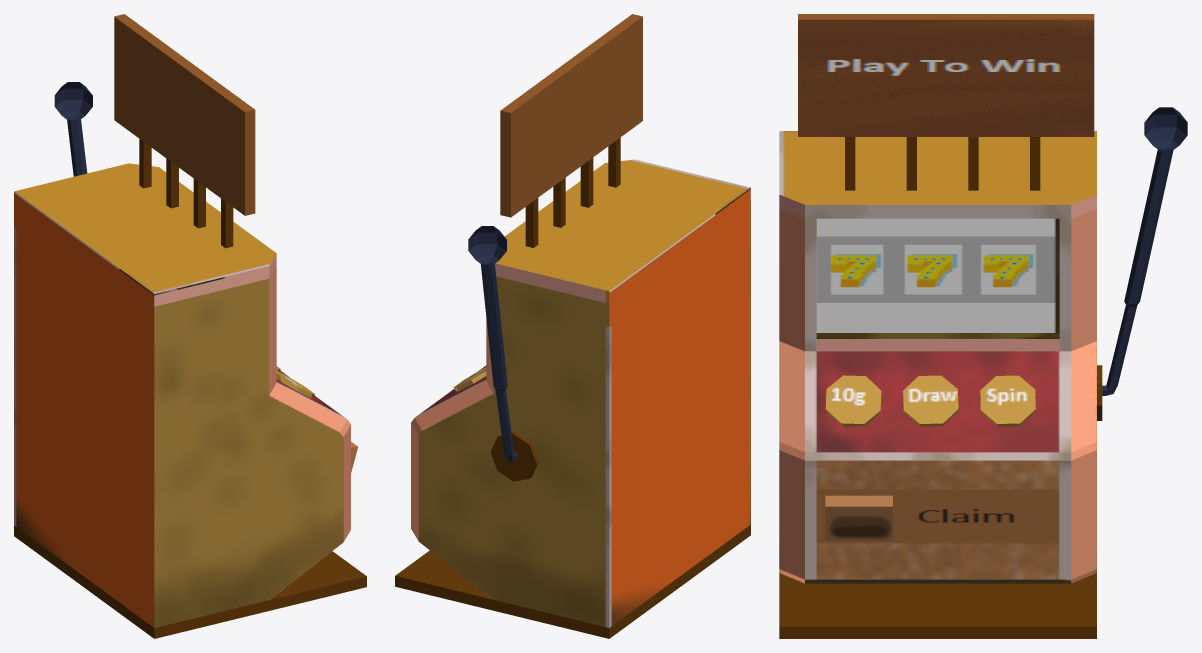
The model's file is Slots3dModel.fbx.
3 renders of one model, left to right at view 1: azimuth 30°, elevation 25°; view 2: azimuth 150°, elevation 25°; view 3: azimuth 270°, elevation 25°, orthographic. The views are drawn at different scales.
Visible parts, largest first — view 1: Body, Panel, BottomPanel, Wood, Handle; view 2: Body, Panel, BottomPanel, Handle, Wood, HandleHinge; view 3: Body, Panel, BottomPanel, Buttons, Handle, Cube.001, Wood.
Part boxes in pixels (bbox=[...]): Body: bbox=[14, 163, 350, 627]; Panel: bbox=[114, 14, 255, 215]; BottomPanel: bbox=[14, 525, 366, 638]; Wood: bbox=[139, 139, 233, 248]; Handle: bbox=[54, 82, 92, 176]; Body: bbox=[411, 159, 750, 627]; Panel: bbox=[500, 14, 642, 217]; BottomPanel: bbox=[395, 524, 750, 638]; Handle: bbox=[468, 226, 517, 462]; Wood: bbox=[525, 137, 620, 247]; HandleHinge: bbox=[490, 432, 538, 481]; Body: bbox=[779, 131, 1096, 583]; Panel: bbox=[798, 14, 1094, 136]; BottomPanel: bbox=[779, 573, 1096, 638]; Buttons: bbox=[825, 375, 1035, 427]; Handle: bbox=[1102, 107, 1187, 395]; Cube.001: bbox=[825, 495, 892, 540]; Wood: bbox=[845, 137, 1040, 190].
Bounding box in the file's own units: 215 × 456 × 300.
6 materials, 4 textured.
